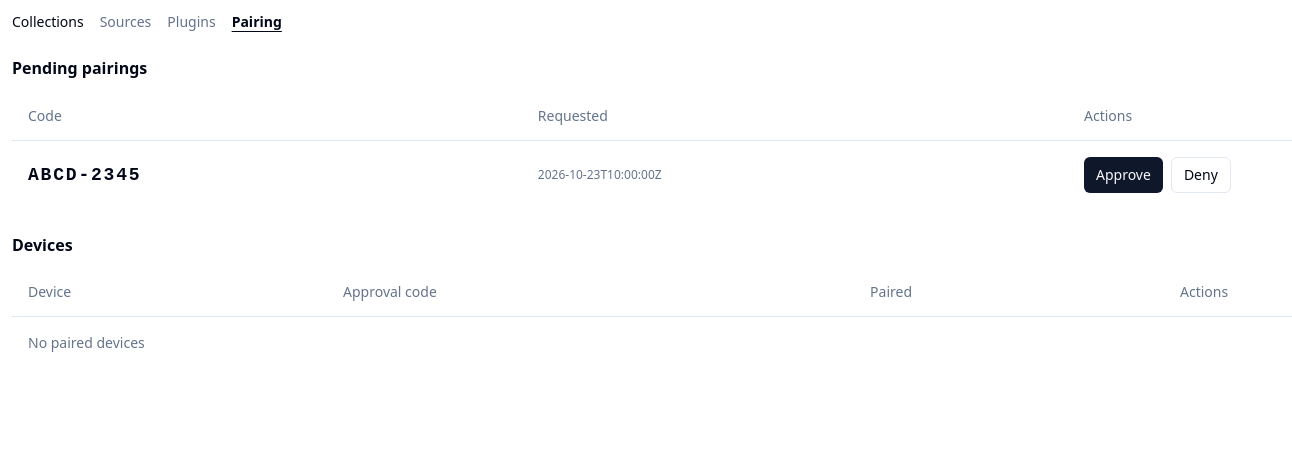
Scenario: Pairing — admin surface (device-pairing 3.2) › a refused adjudication surfaces the canonical error inline without auto-retry
This screenshot has width=1292, height=473.
Expected: the row "ABCD-2345 2026-10-23T10:00:00Z Approve Deny" is shown, [12,140,1291,208]
Step 1. Click the button "Approve" → (1123, 174), box [1084,156,1163,192]
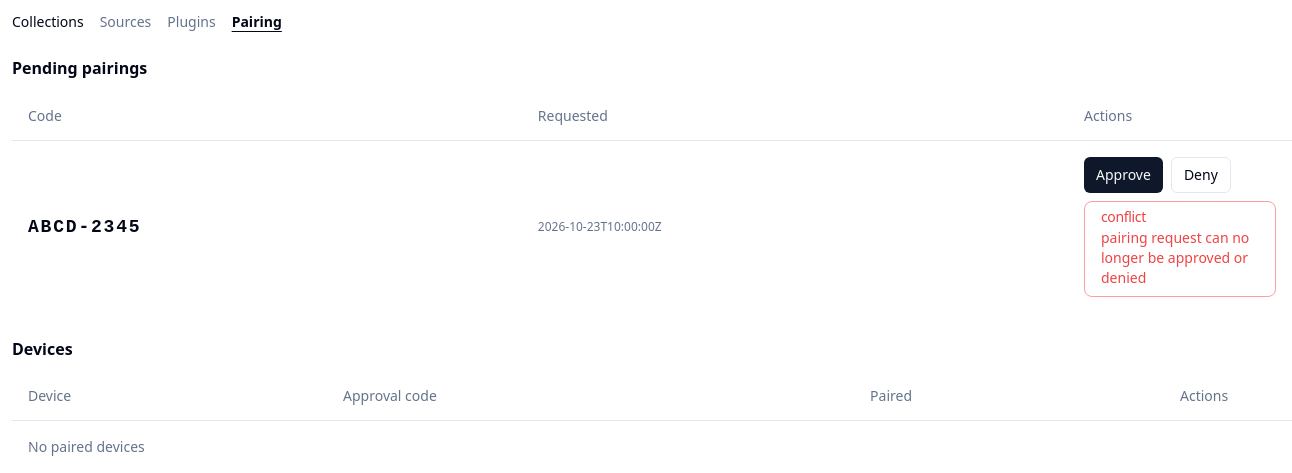
Result: the heading "conflict" is shown at [1101,206,1146,226]
Result: the text "pairing request can no longer be approved or denied" is shown at [1101,228,1259,288]
